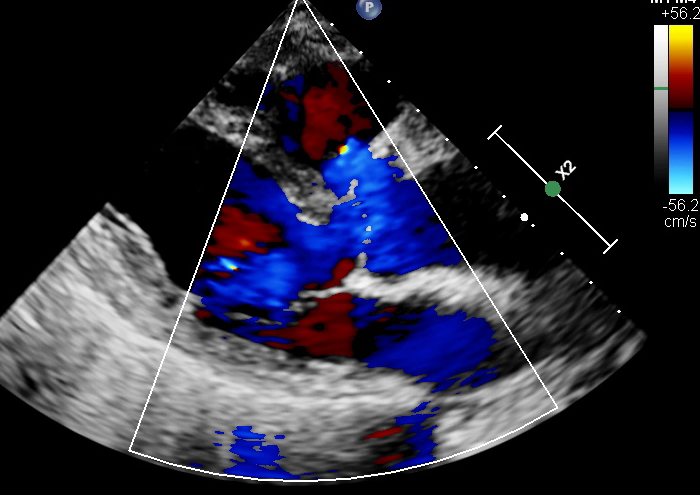TR: (240, 161, 315, 334)
